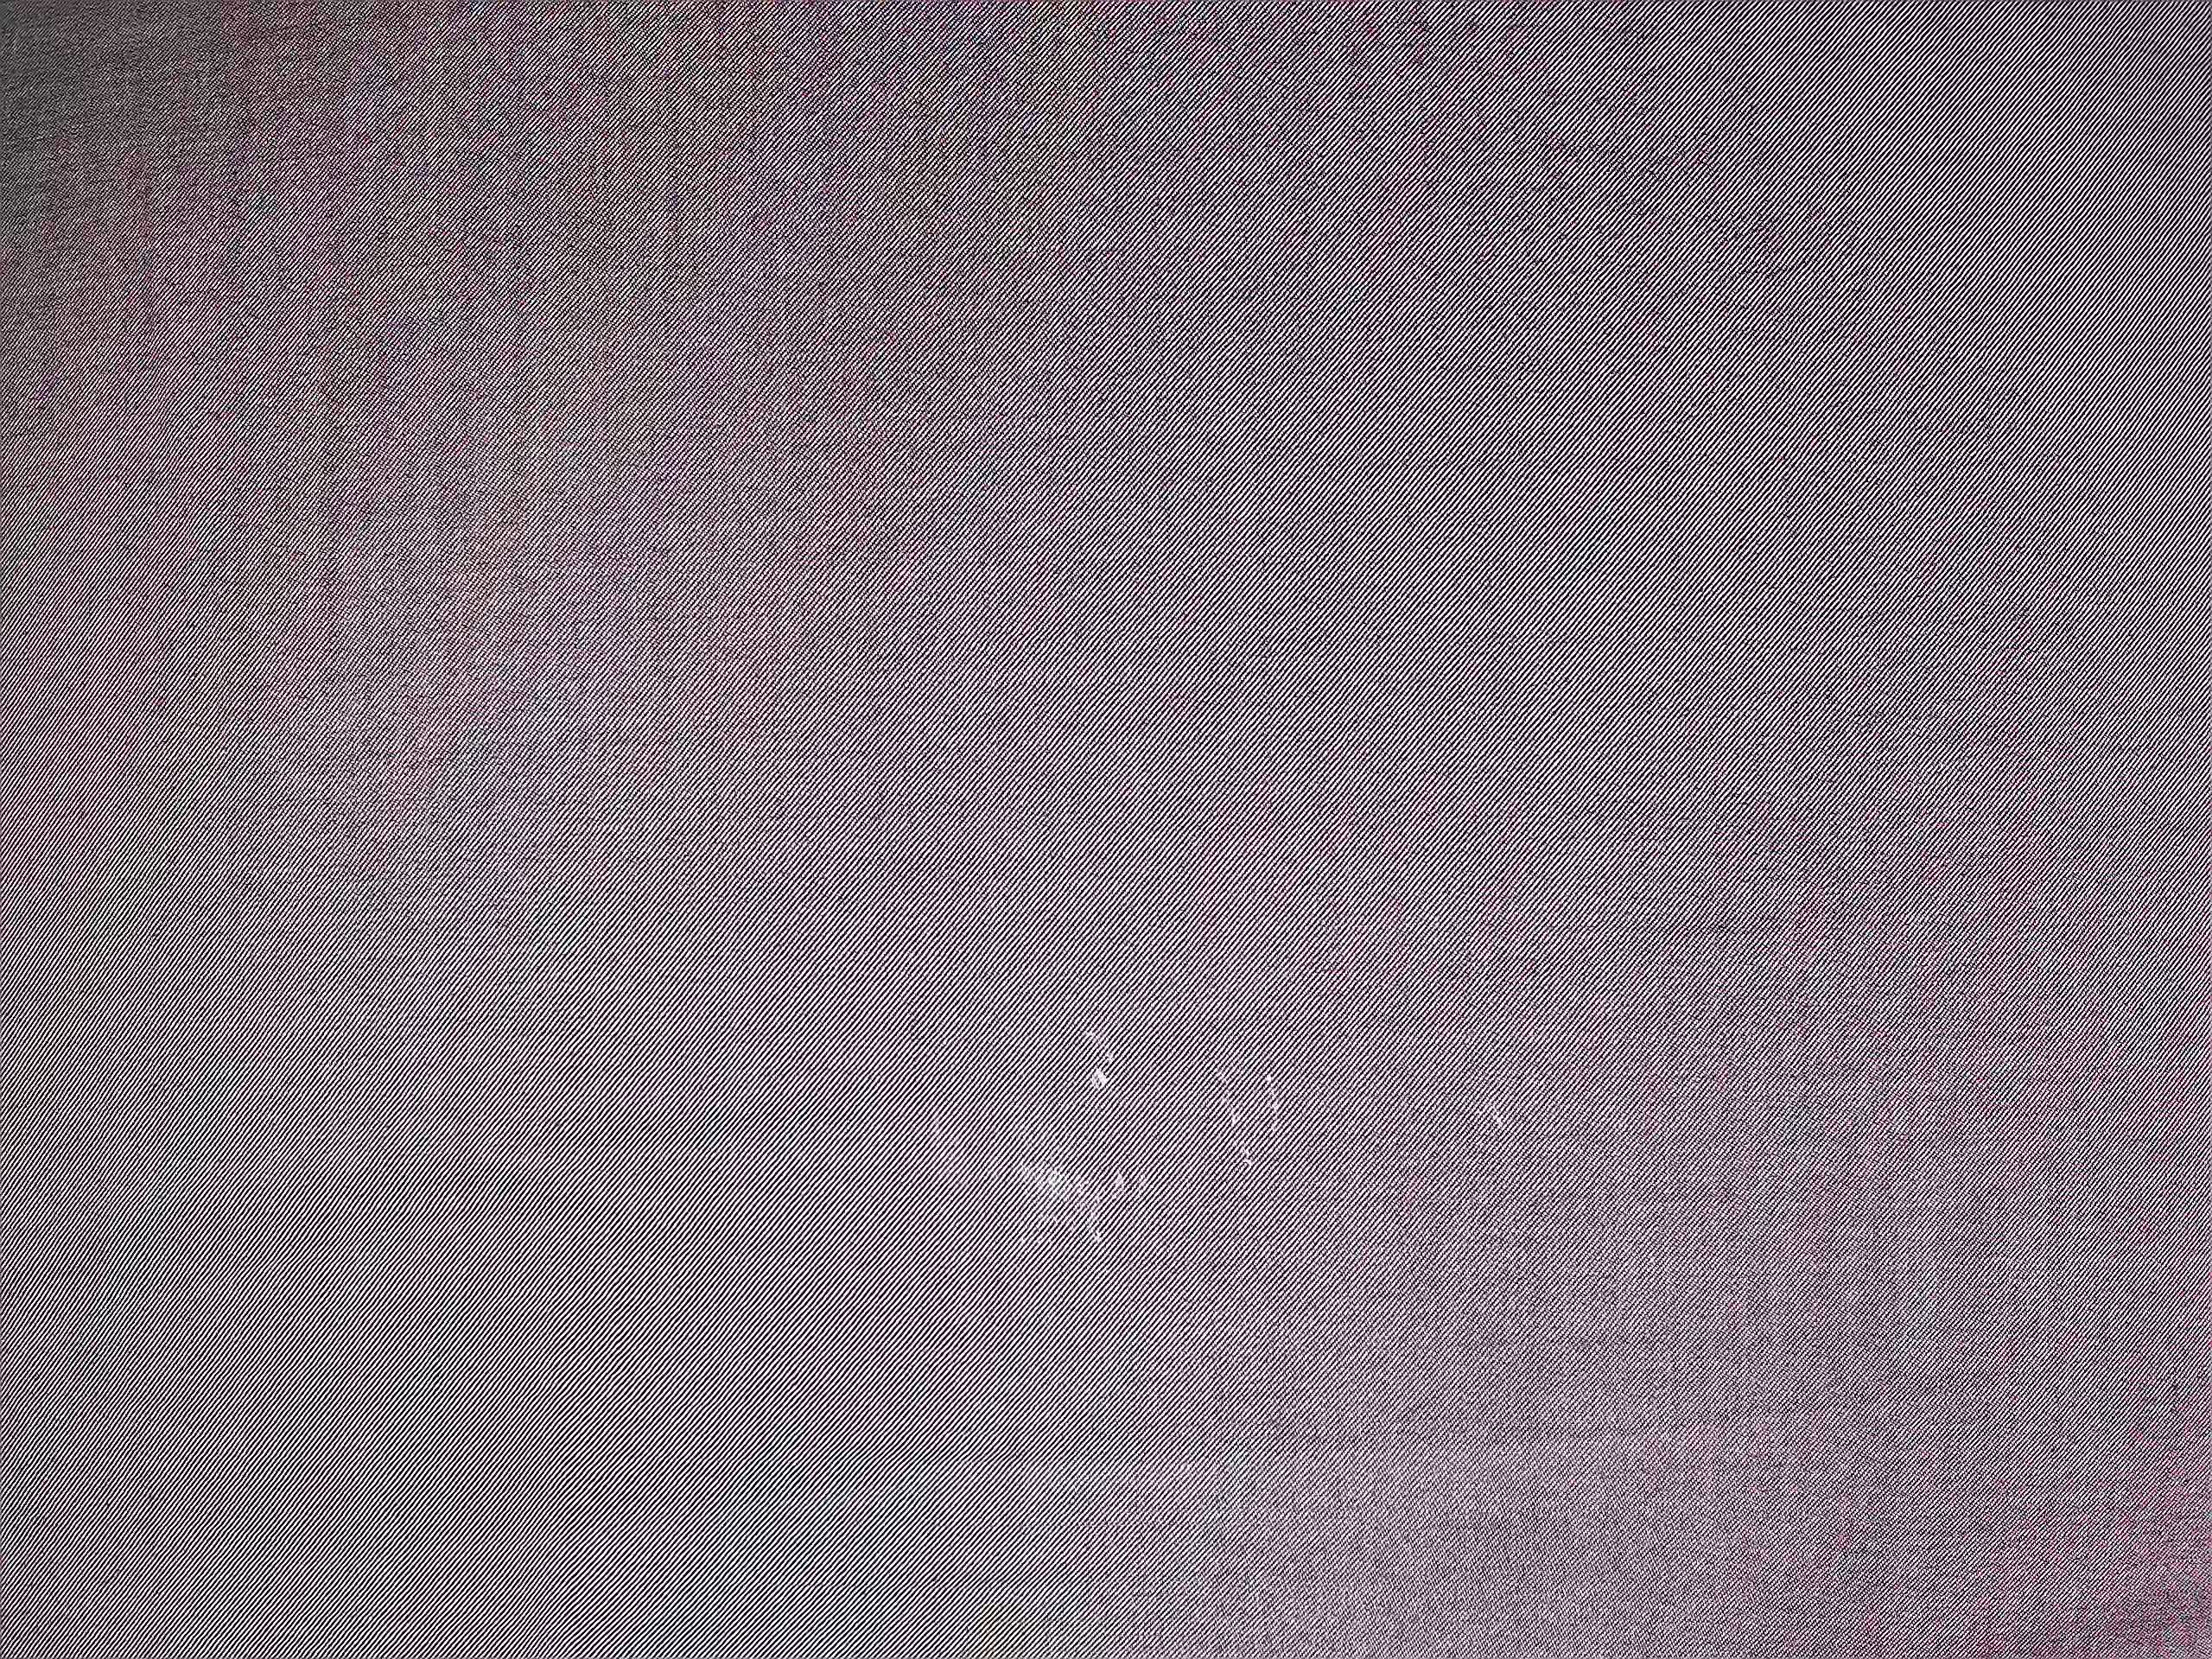stains: (969, 1006, 1554, 1261)
